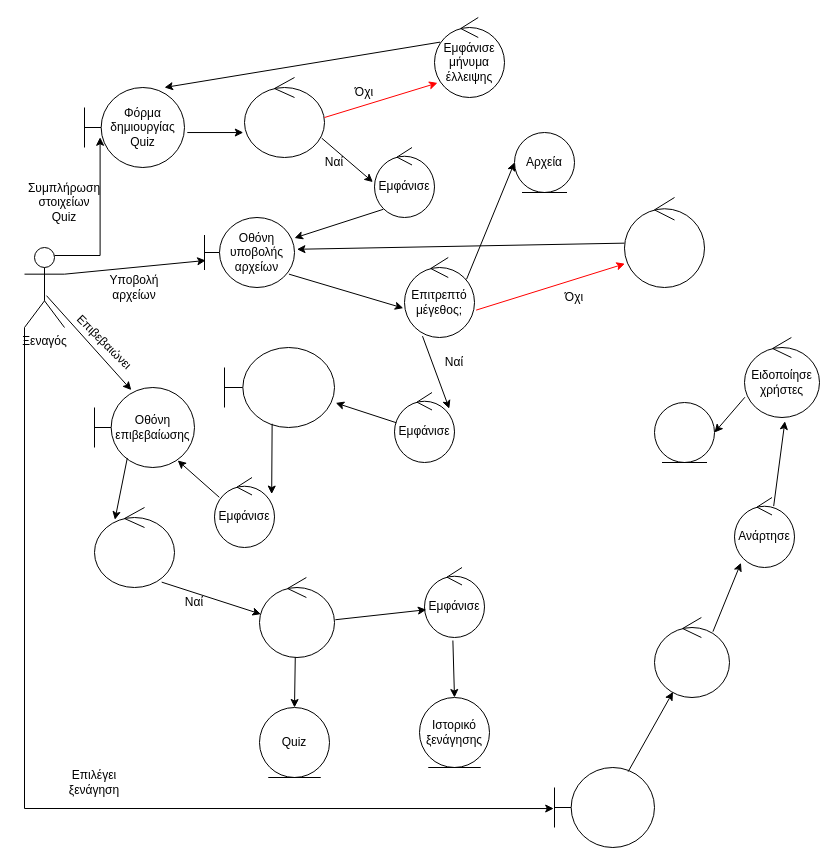
Image size: 837x865. Some labels were removed from this diagram. The centre of each missing label's shape, as x and y in pixels:
Δημιουργία-αποθήκευση: (x=296, y=617)
Εμφάνισε μήνυμα μη επιτρεπτόυ μεγέθους: (x=664, y=242)
Επαρκείς πληροφορίες;: (x=284, y=117)
Ο χρήστης επιβεβαίωσε;: (x=134, y=547)
Οθόνη επιλογής ξενάγησης: (x=604, y=807)
Οθόνη προεπισκόπισης Quiz: (x=279, y=387)
Σύνδεση ξνάγησης με Quiz: (x=692, y=657)
Χρήστες: (x=684, y=432)
